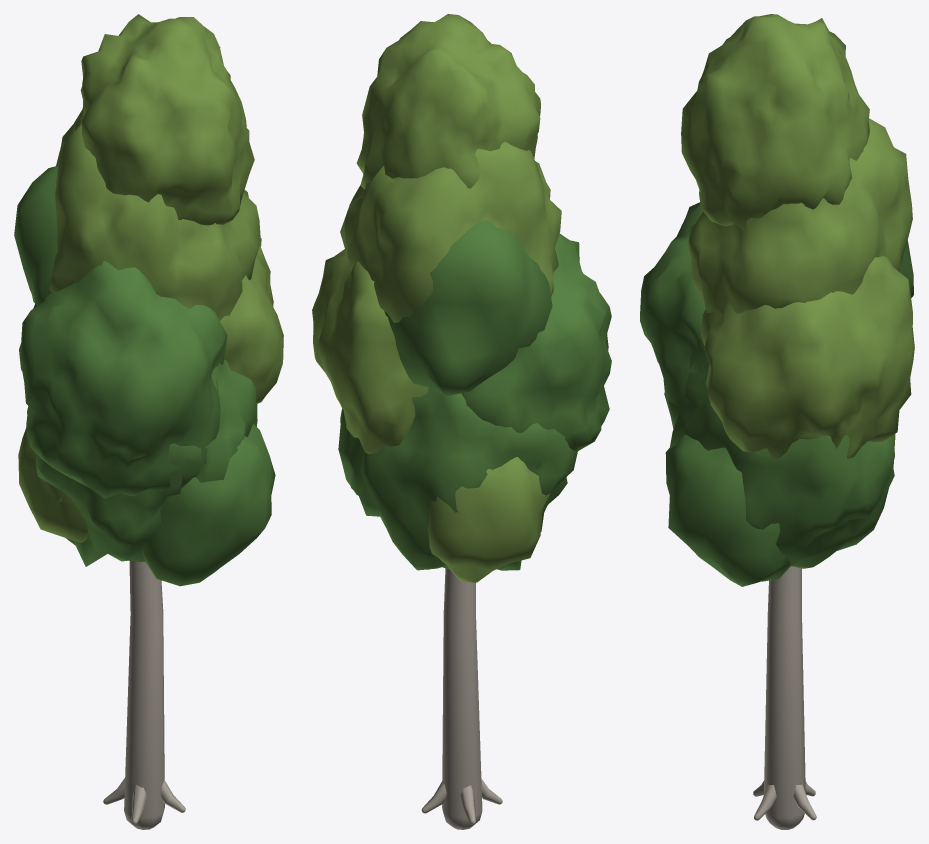
The model's file is tree_tall.glb.
3 views of the same model, side by side, from view 1: azimuth 30°, elevation 25°; view 2: azimuth 150°, elevation 25°; view 3: azimuth 270°, elevation 25° (orthographic). The views are drawn at different scales.
Visible parts, largest first — view 1: tree_tall; view 2: tree_tall; view 3: tree_tall.
Part boxes in pixels (x1,y1,x2,y2): tree_tall: (14,14,283,829); tree_tall: (312,14,611,829); tree_tall: (640,14,914,829).
Size of the model in its own units: 2.18 by 6.4 by 1.94.
